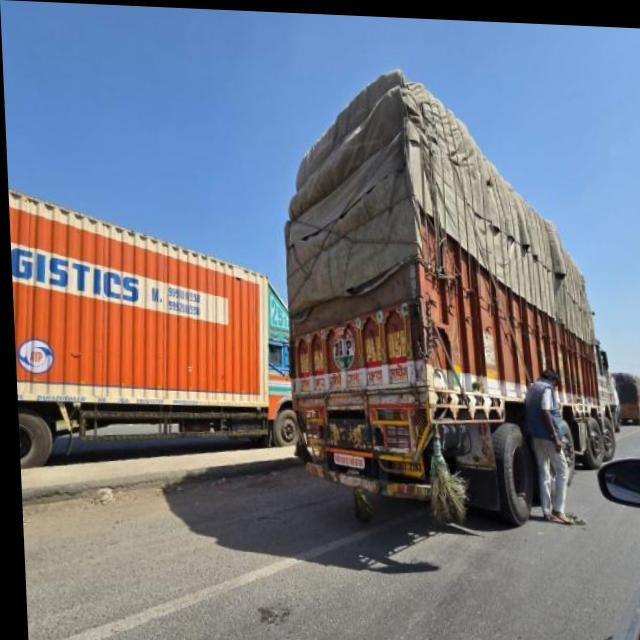covered: (274, 66, 623, 531)
uncovered: (5, 142, 274, 440)
